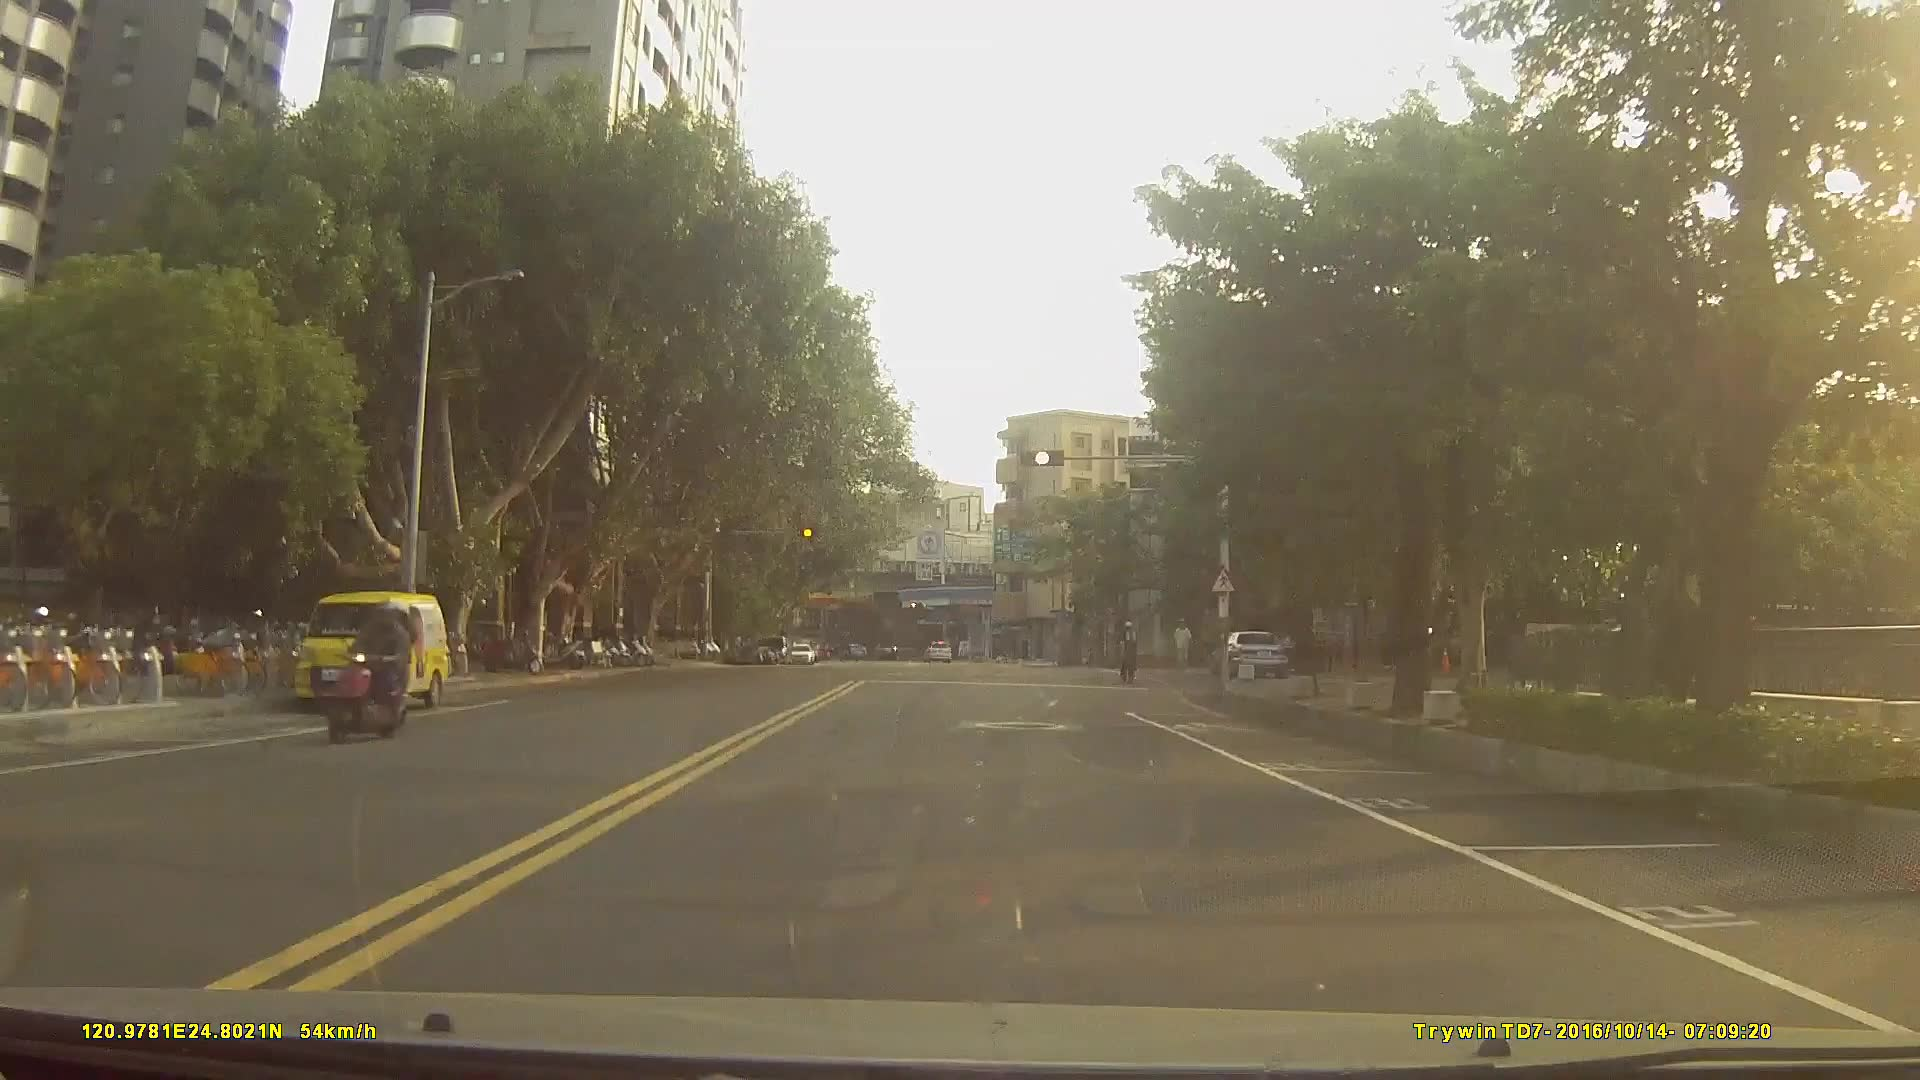pedestrian: (1174, 618, 1195, 680)
rider: (325, 598, 417, 745), (1117, 619, 1143, 679)
vehicle: (1207, 629, 1290, 677), (786, 639, 817, 661), (925, 639, 952, 663)
